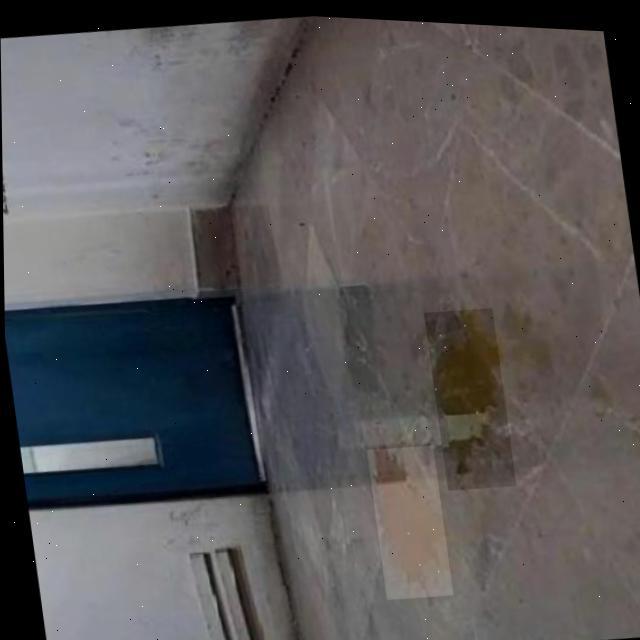spillage: (431, 304, 496, 482), (368, 443, 441, 590)
